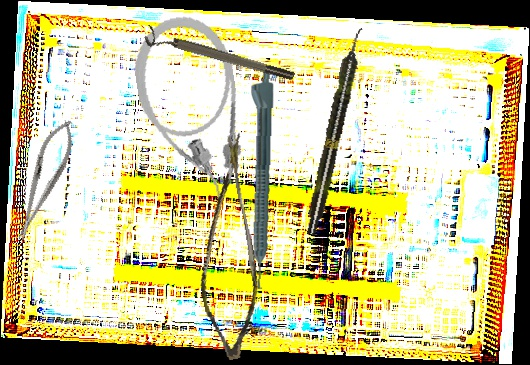Cannula: (127, 10, 253, 211)
Fixation Ring: (142, 24, 296, 90)
Handpiece: (302, 25, 368, 237), (241, 68, 275, 290)
Micro Scissor: (172, 131, 283, 363)
Needle Holder: (5, 113, 83, 246)
